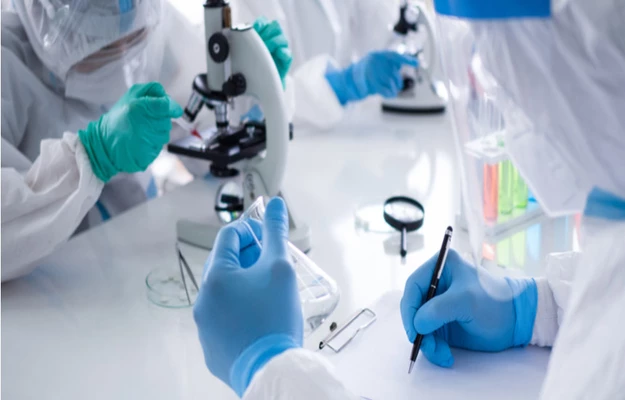Gloves: (185, 197, 312, 388), (397, 240, 536, 373), (76, 79, 181, 181), (321, 42, 419, 106)
